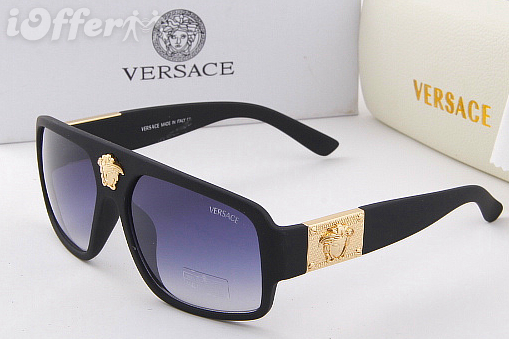sunglasses: (24, 95, 490, 310)
